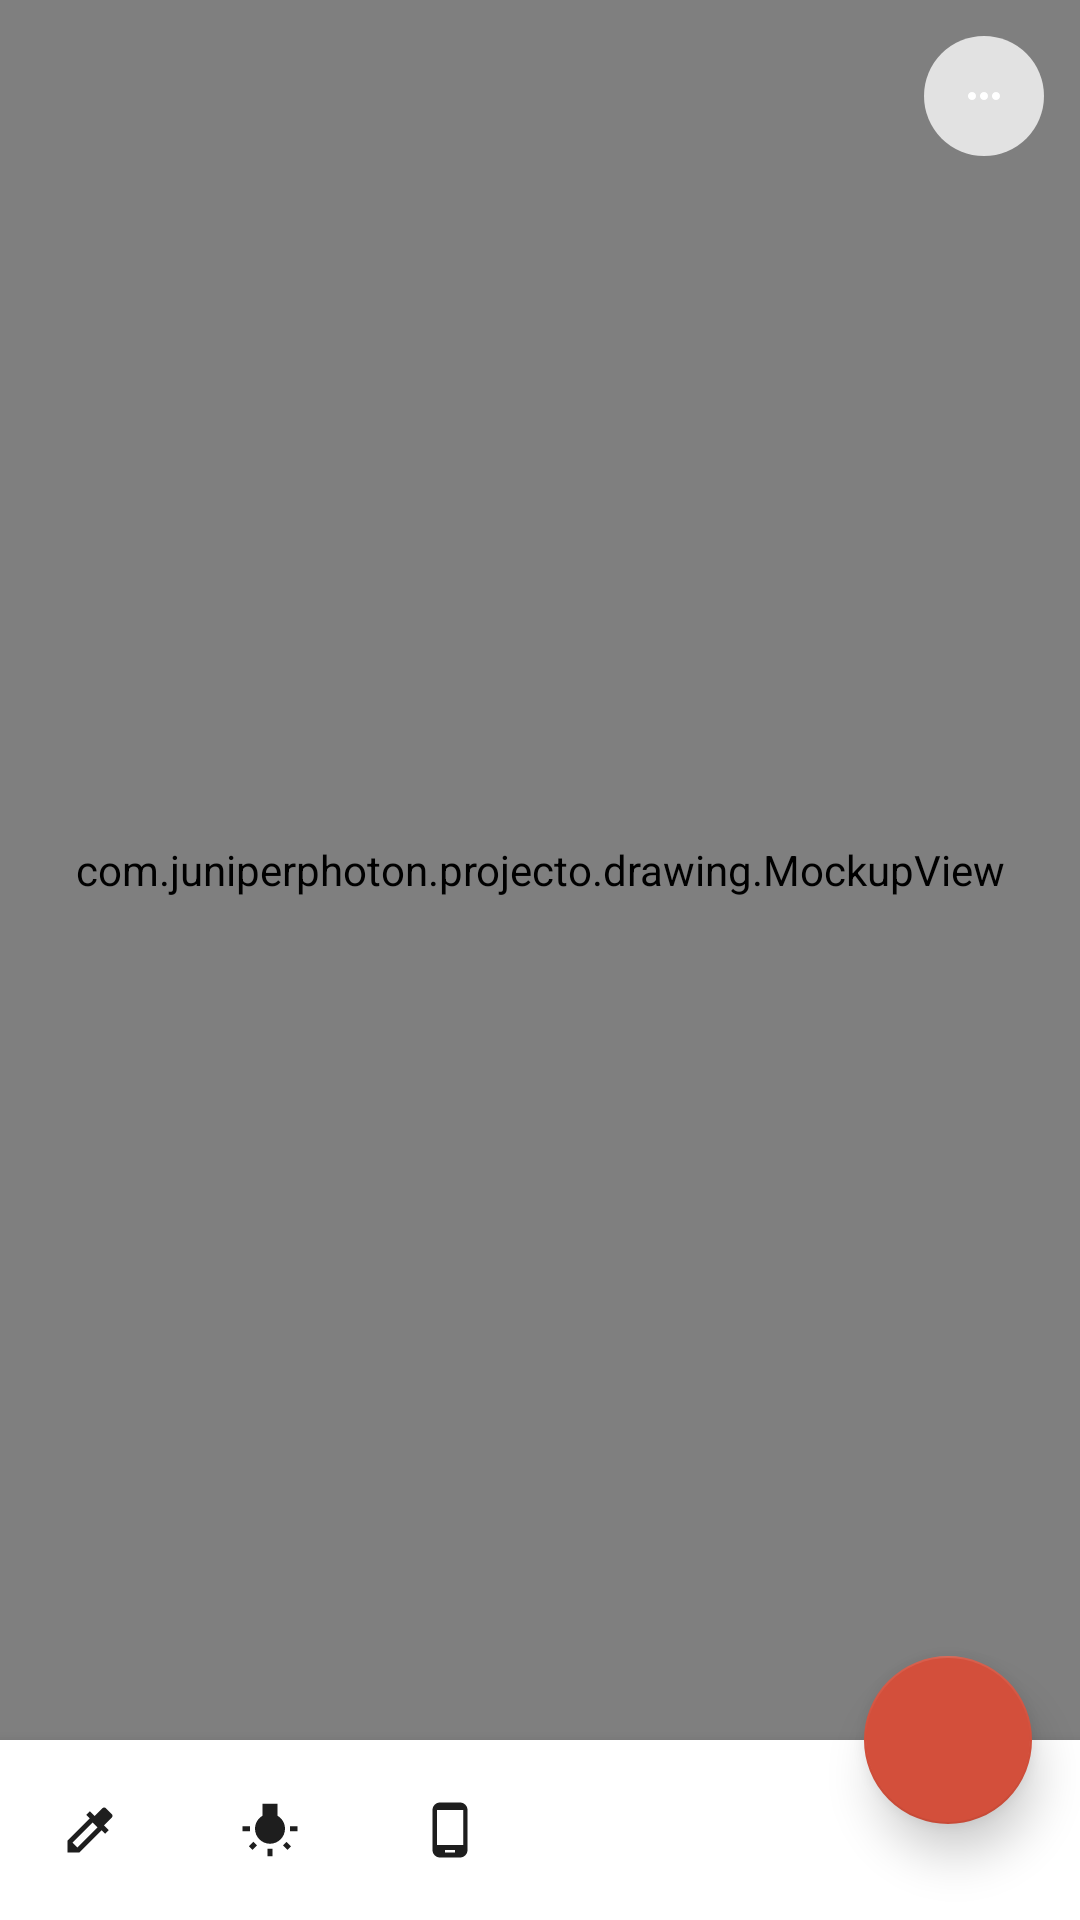

Named icons in this screenshot (1080px x 1920px) and their centers, (x,y):
more: (984,96)
